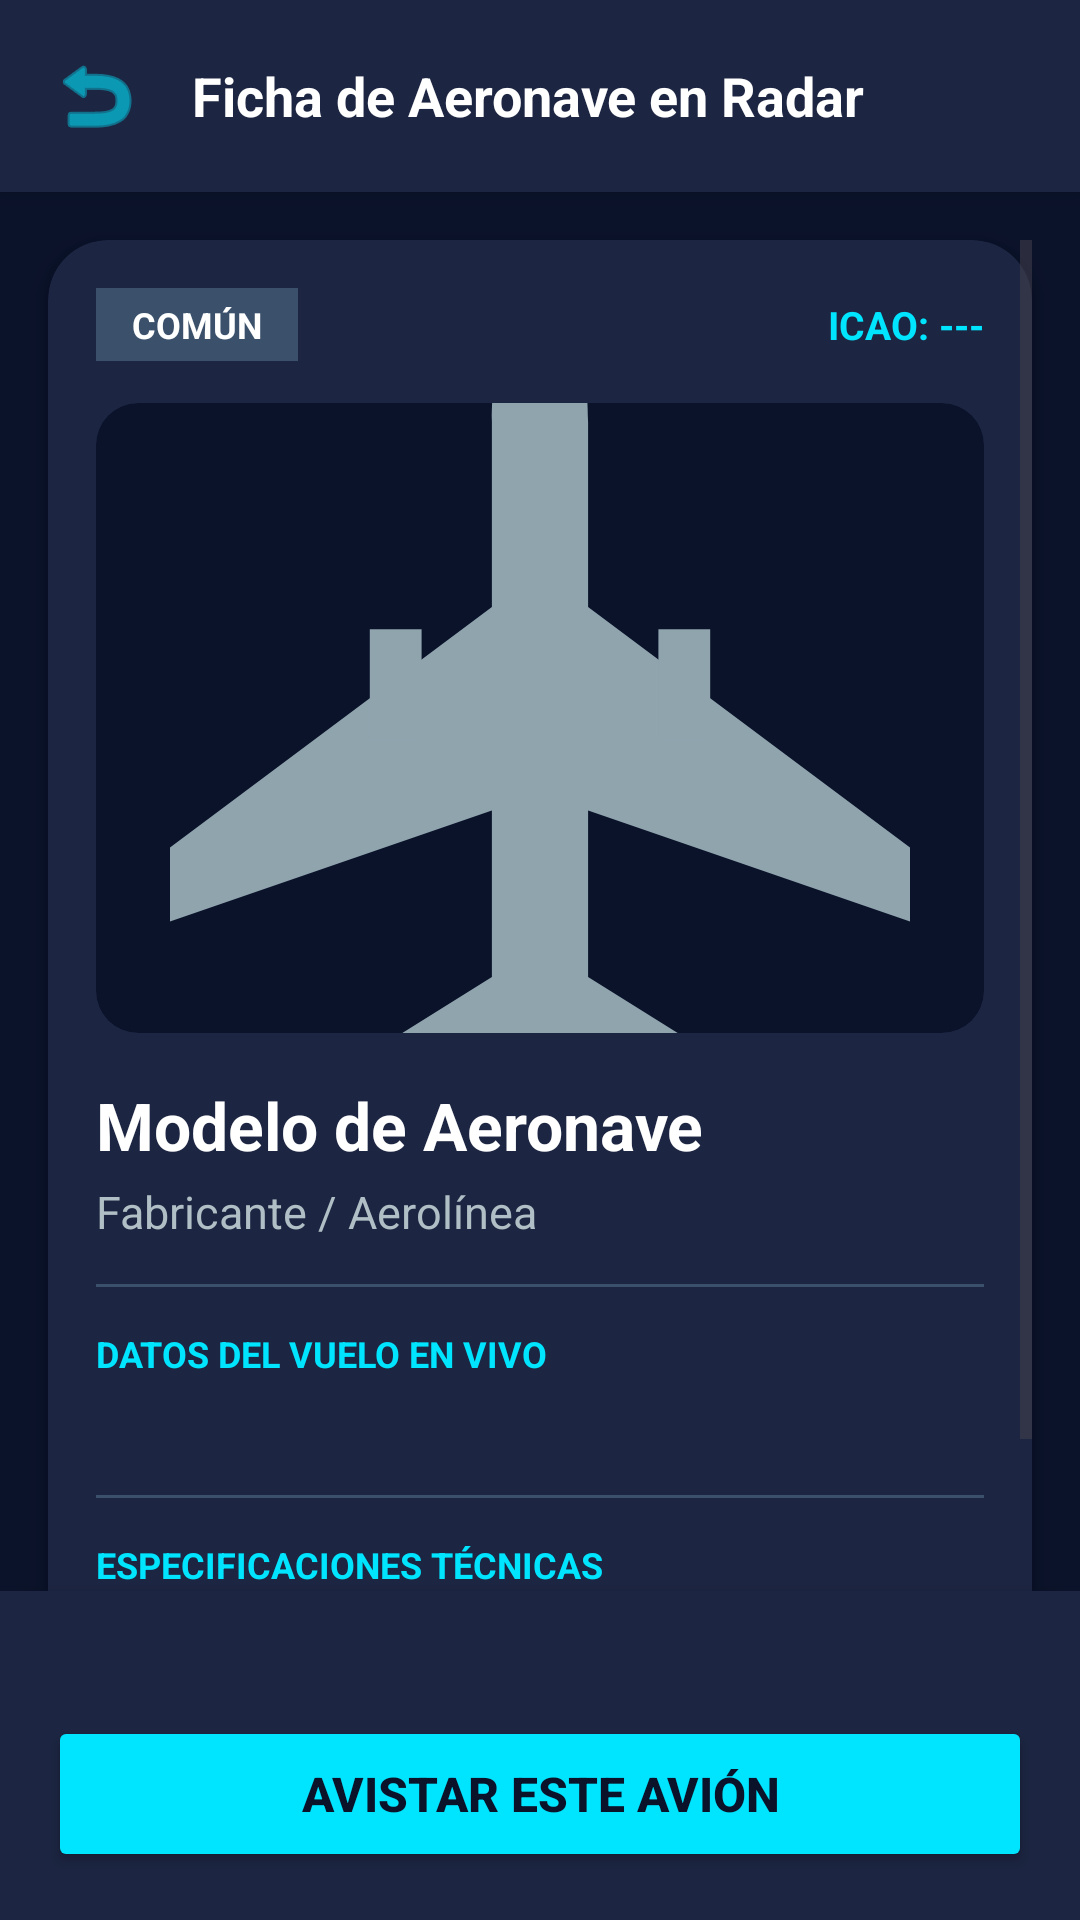

Point at icon controls on the screen. Image size 1080 × 1920, points as point (x, y).
Volver al mapa: point (97, 96)
